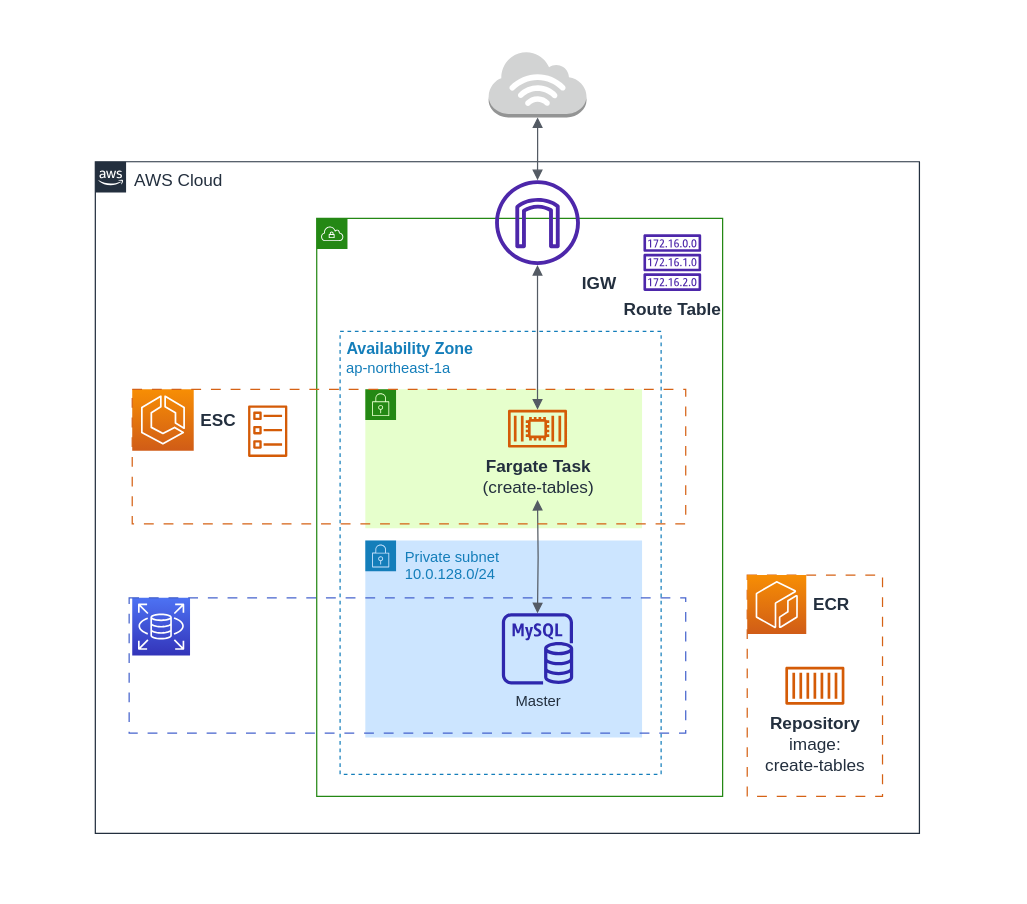
The diagram is 1027 pixels wide and 904 high, and some of its shapes have lost their labels. The shapes that lost their labels are listed below. From the top down, each one's box as (x1, y1, x2, y2) in pixels, then its label:
(487, 50, 586, 117): Internet
(247, 405, 287, 456): Task Definition
(364, 388, 642, 528): Public subnet 10.0.0.0/24
(315, 217, 723, 796): VPC 10.0.0.0/16
(131, 597, 190, 656): RDS
